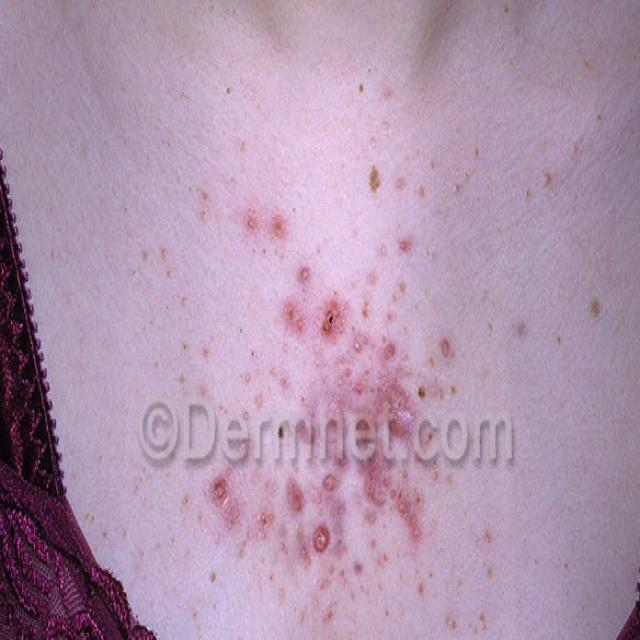Acne: (444, 502, 518, 640), (212, 179, 306, 259), (346, 555, 422, 640), (390, 352, 437, 480), (347, 374, 385, 520), (288, 481, 338, 559), (320, 286, 352, 373), (585, 280, 619, 347), (361, 150, 390, 213), (196, 466, 236, 510), (389, 229, 426, 268)
